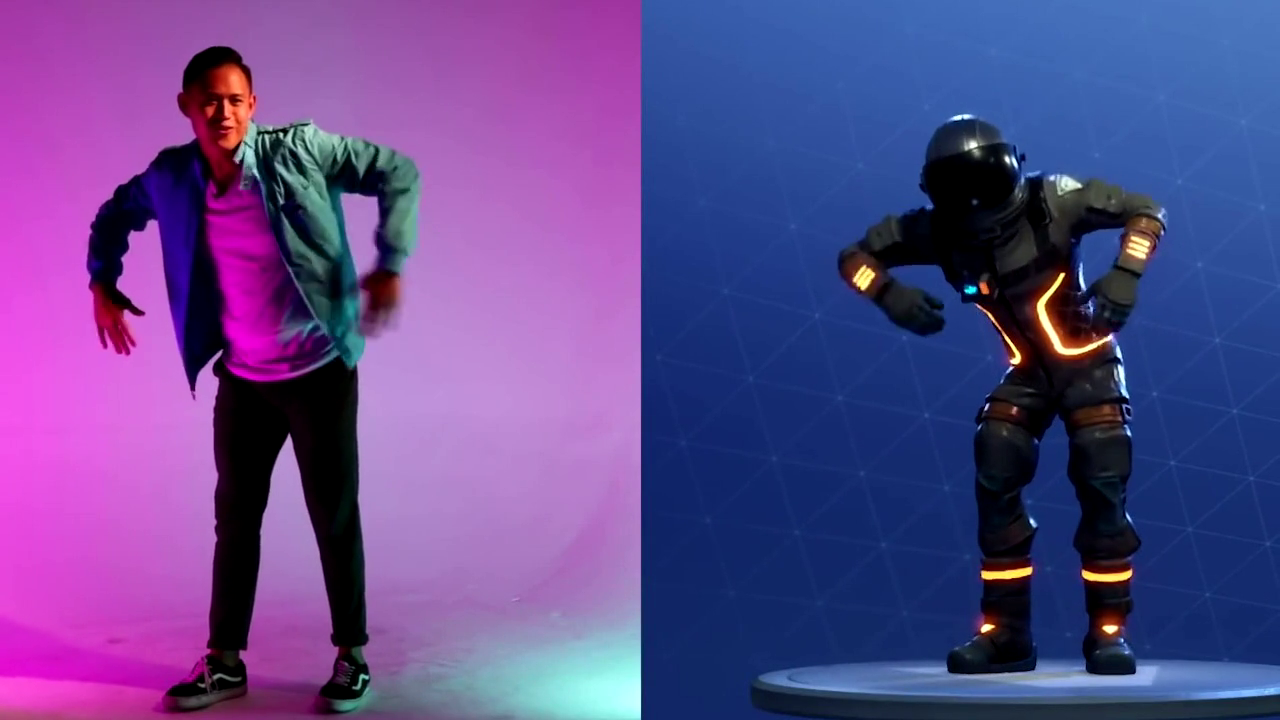Head: (161, 43, 272, 163)
Hip: (181, 325, 392, 439)
LeftAnkle: (295, 617, 409, 715)
LeftElbow: (350, 127, 439, 217)
LeftKnee: (294, 472, 382, 550)
LeftShoulder: (256, 113, 344, 194)
LeftWrist: (343, 247, 432, 359)
RightAnkle: (157, 611, 275, 709)
RightElbow: (83, 192, 184, 270)
RightKnee: (194, 488, 280, 564)
RightShoulder: (139, 141, 231, 212)
RightWrist: (83, 274, 175, 365)
Torso: (151, 145, 358, 372)
